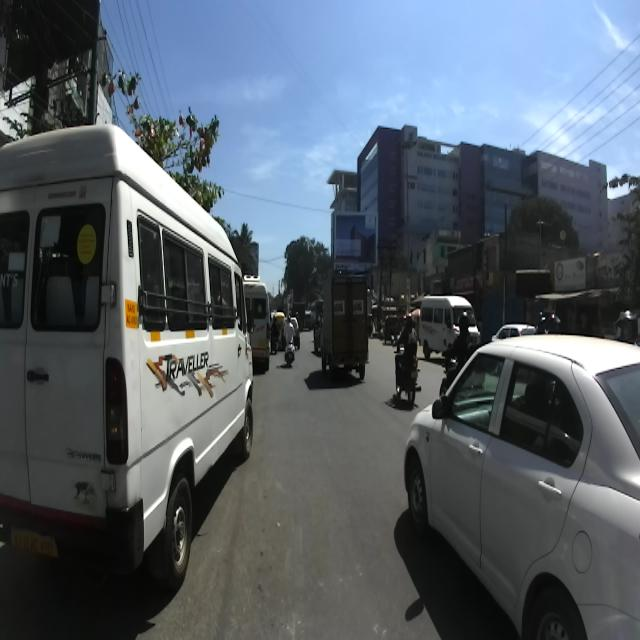auto ahead at: (316, 267, 376, 382)
bus ahead at: (0, 132, 264, 579)
car ahead at: (405, 327, 640, 640)
